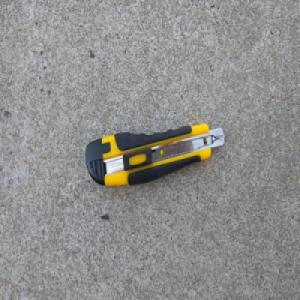Cutter: (84, 122, 224, 186)
